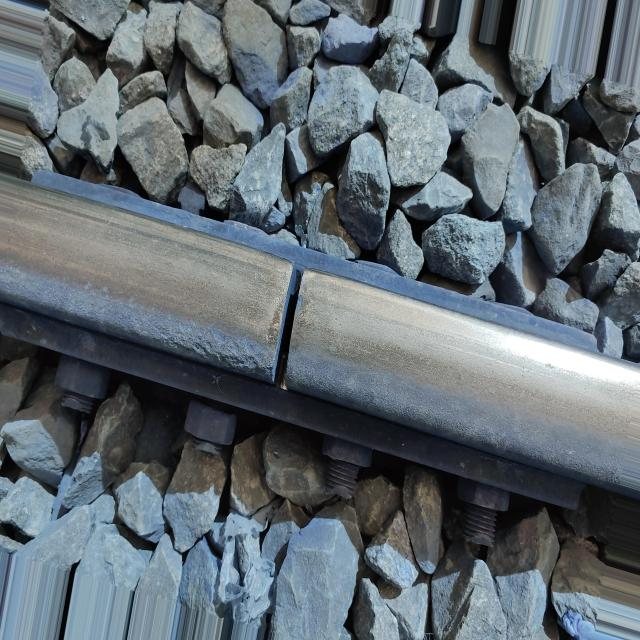crack: (261, 254, 319, 410)
